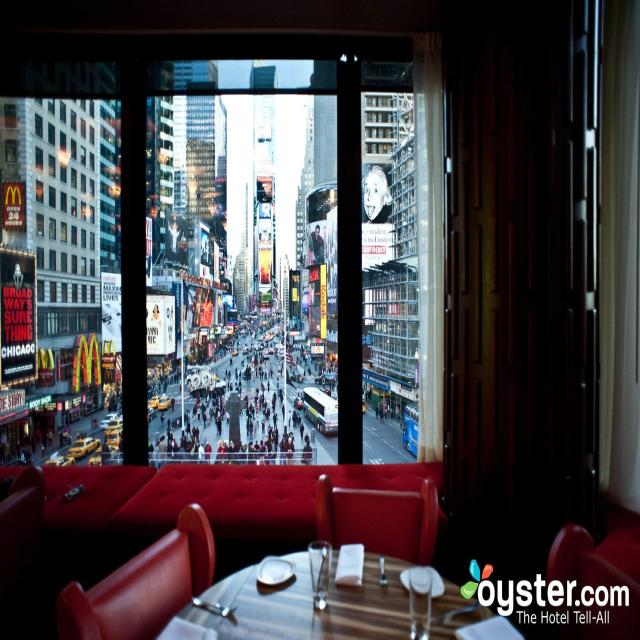body: (0, 281, 174, 421), (173, 298, 303, 381), (302, 209, 338, 329), (164, 225, 226, 284), (360, 158, 396, 227), (302, 328, 339, 392), (256, 176, 274, 297), (196, 381, 230, 434), (148, 437, 197, 462), (12, 436, 37, 466), (384, 393, 400, 425), (301, 434, 313, 466), (157, 435, 167, 472), (235, 440, 247, 468), (263, 435, 273, 466), (118, 432, 126, 468), (361, 380, 373, 404), (217, 439, 227, 464), (270, 436, 278, 466), (278, 437, 286, 466), (285, 436, 295, 459), (188, 437, 198, 460), (75, 426, 88, 443), (102, 438, 112, 460), (166, 429, 174, 456), (60, 430, 72, 447), (40, 428, 46, 461), (204, 440, 212, 464), (171, 417, 187, 428), (258, 439, 266, 459), (198, 442, 205, 464), (185, 419, 192, 440), (248, 440, 254, 464), (46, 428, 53, 448), (222, 442, 228, 464), (251, 448, 257, 470), (248, 420, 254, 441), (379, 404, 385, 424), (299, 422, 305, 441), (254, 440, 260, 459), (252, 417, 258, 436), (244, 363, 250, 382), (260, 416, 266, 434), (196, 404, 202, 422), (236, 383, 242, 400), (243, 394, 248, 414), (227, 440, 235, 452), (272, 412, 278, 428), (287, 431, 295, 443), (170, 397, 176, 412), (192, 404, 197, 422), (209, 404, 214, 422), (271, 396, 276, 413), (205, 391, 210, 408), (195, 425, 199, 445), (246, 416, 250, 436), (255, 410, 259, 430), (274, 424, 278, 443), (251, 406, 255, 425), (374, 405, 379, 420), (267, 423, 271, 441), (255, 399, 259, 417), (258, 394, 262, 412), (254, 393, 258, 411), (234, 381, 238, 399), (214, 368, 220, 380), (248, 364, 252, 382), (292, 411, 296, 428), (288, 409, 292, 426), (294, 410, 298, 427), (281, 404, 285, 421), (280, 391, 284, 408), (160, 410, 164, 427), (203, 413, 207, 430), (267, 407, 271, 422), (245, 406, 249, 421), (260, 382, 264, 397), (321, 374, 325, 389), (262, 408, 266, 422), (272, 391, 276, 405), (248, 402, 252, 416), (256, 386, 260, 400), (167, 416, 171, 430), (224, 368, 228, 382), (192, 425, 196, 438), (263, 400, 267, 413), (278, 394, 282, 407), (179, 382, 183, 395), (229, 382, 233, 395), (238, 379, 242, 392), (238, 370, 242, 383), (263, 359, 267, 372), (302, 368, 306, 380), (270, 367, 274, 379), (187, 410, 190, 426), (227, 369, 231, 381), (270, 426, 274, 438), (200, 402, 205, 411), (296, 386, 300, 397), (252, 371, 256, 382), (328, 380, 332, 390), (258, 370, 262, 380), (267, 380, 270, 392), (280, 362, 284, 371), (235, 372, 238, 384), (264, 369, 267, 381), (331, 381, 334, 390), (289, 364, 292, 373), (262, 369, 264, 381), (292, 368, 294, 379), (235, 367, 237, 378)
